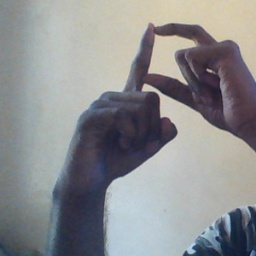D: (112, 15, 236, 121)
